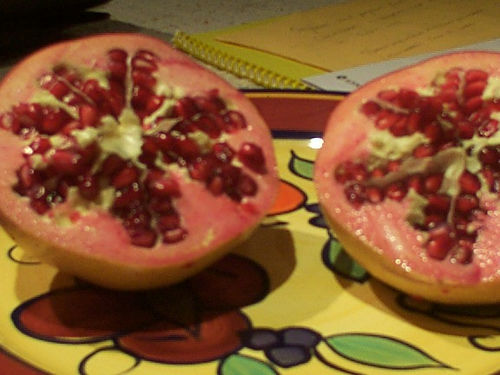pomogranate: (0, 30, 284, 298), (315, 50, 499, 304)
